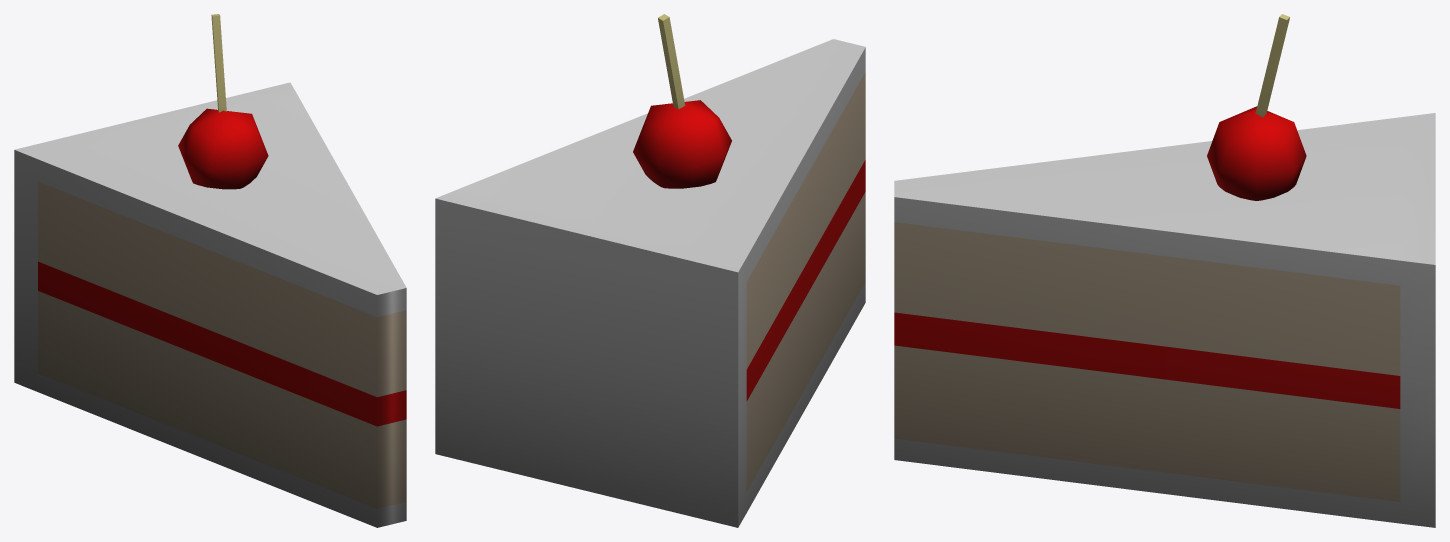
File: consumables-sugar-sliceofcake_v1.glb
3 views of the same model, side by side, from view 1: azimuth 30°, elevation 25°; view 2: azimuth 150°, elevation 25°; view 3: azimuth 270°, elevation 25° (orthographic). The views are drawn at different scales.
Visible parts, largest first — view 1: SliceOfCake.001; view 2: SliceOfCake.001; view 3: SliceOfCake.001.
Boxes of the visible parts, x1=… form: SliceOfCake.001: x1=14, y1=14, x2=406, y2=527; SliceOfCake.001: x1=435, y1=14, x2=865, y2=527; SliceOfCake.001: x1=894, y1=14, x2=1435, y2=527.
Bounding box in the file's own units: 0.1116 × 0.1485 × 0.1678.
